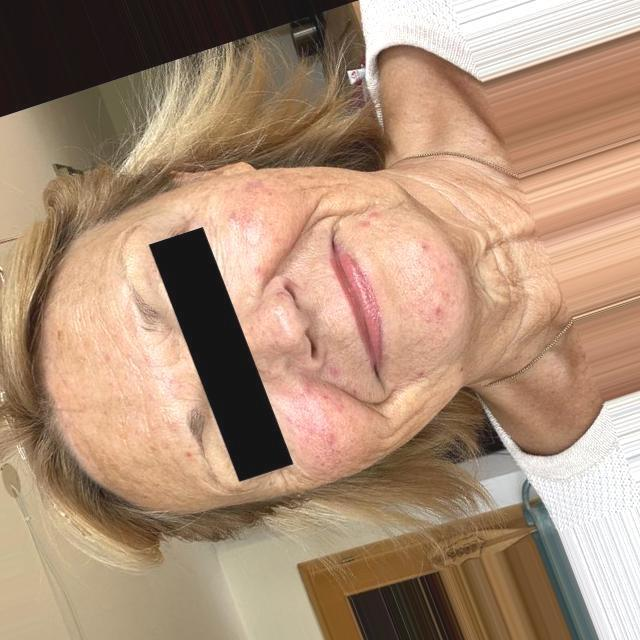Rosacea: (392, 208, 474, 385), (279, 376, 378, 482), (213, 168, 304, 274)
